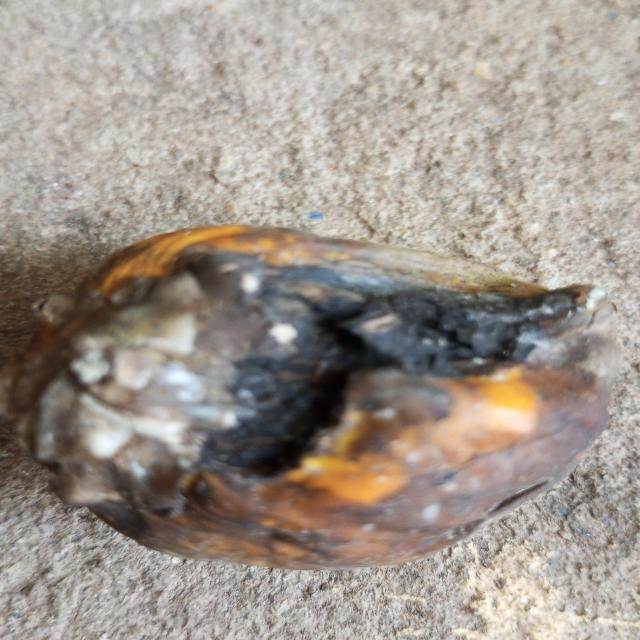damaged: (4, 225, 615, 573)
